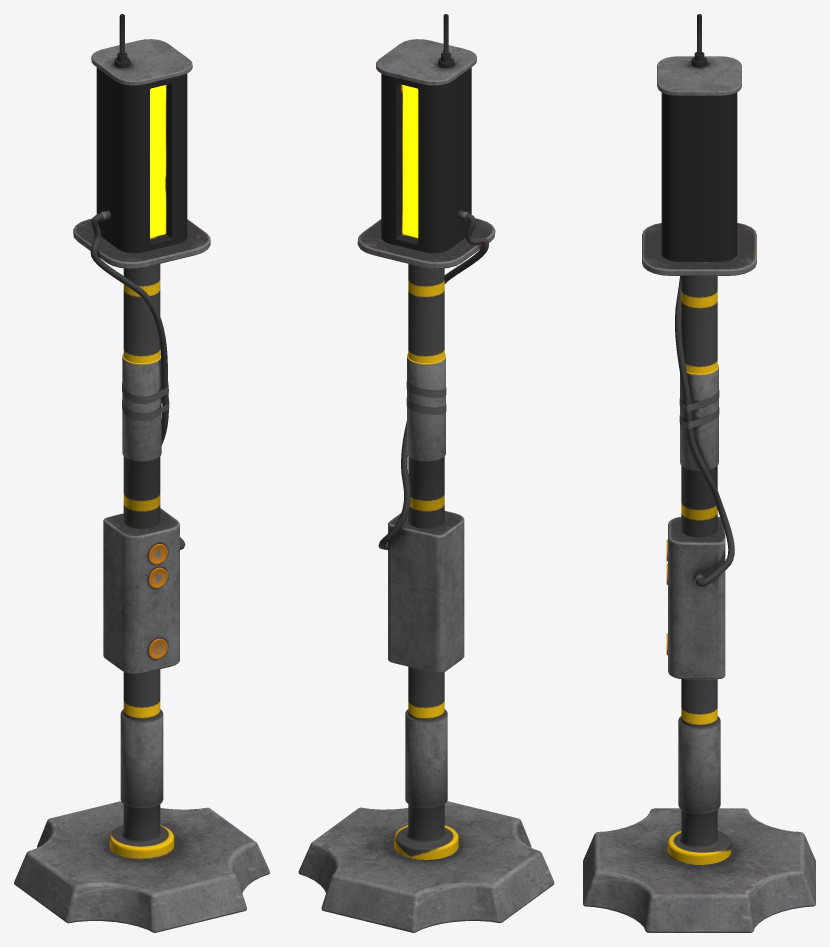
3 views of the same model, side by side, from view 1: azimuth 30°, elevation 25°; view 2: azimuth 150°, elevation 25°; view 3: azimuth 270°, elevation 25° (orthographic).
Parts seen in each view (by area): view 1: StandBase; view 2: StandBase; view 3: StandBase.
Boxes of the visible parts, box(x1,y1,x2,y2) form: StandBase: box(14, 14, 269, 932); StandBase: box(298, 14, 554, 932); StandBase: box(583, 14, 815, 932).
Size of the model in its own units: 0.3366 by 1.37 by 0.3366.
1 material, 1 textured.
